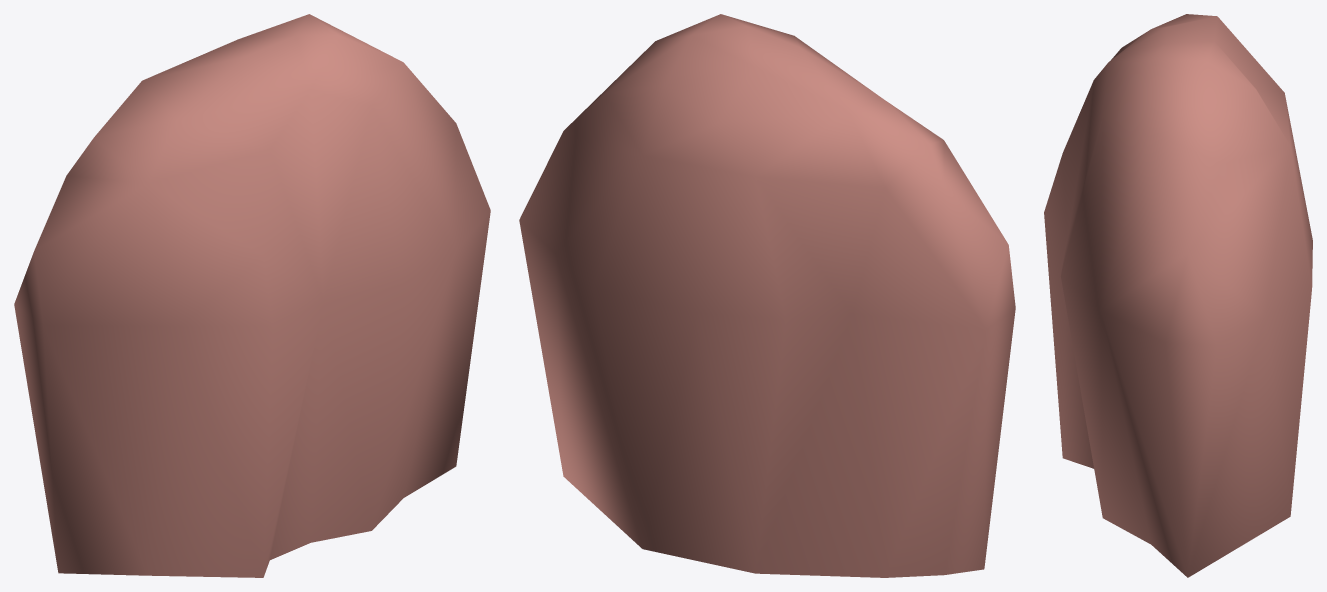
Rendered from snowrocksmall.fbx.
3 views of the same model, side by side, from view 1: azimuth 30°, elevation 25°; view 2: azimuth 150°, elevation 25°; view 3: azimuth 270°, elevation 25° (orthographic). The views are drawn at different scales.
Visible parts, largest first — view 1: boulder base00 superhigh; view 2: boulder base00 superhigh; view 3: boulder base00 superhigh.
Boxes of the visible parts, x1=… form: boulder base00 superhigh: x1=14, y1=14, x2=490, y2=577; boulder base00 superhigh: x1=519, y1=14, x2=1015, y2=577; boulder base00 superhigh: x1=1044, y1=14, x2=1312, y2=577.
Size of the model in its own units: 12492 by 12455 by 6667.
